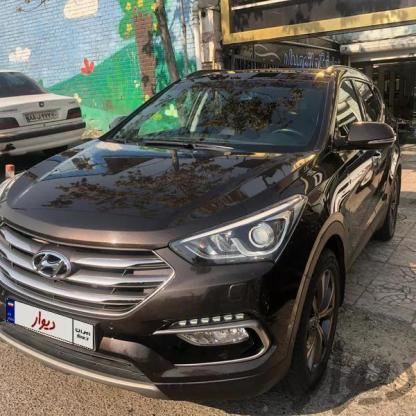Car: (8, 51, 389, 392), (0, 61, 96, 165)
